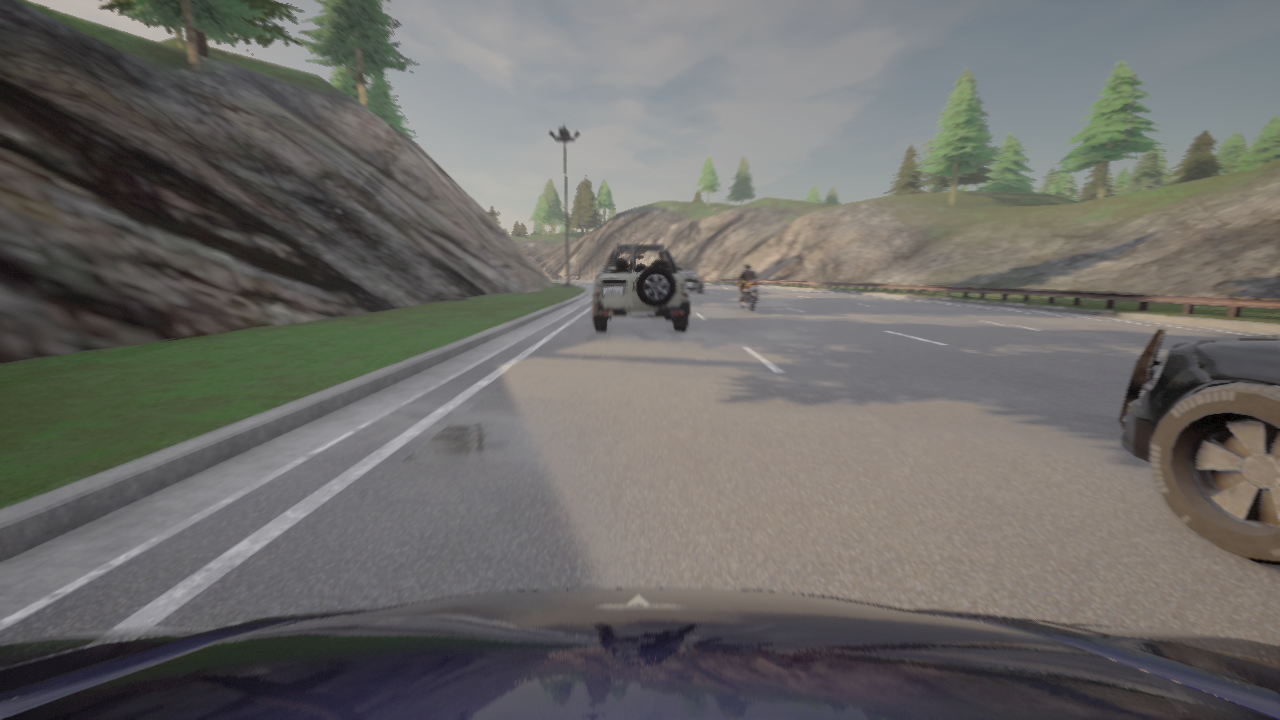cyclist: (0, 588, 1279, 719), (1118, 328, 1279, 565), (592, 244, 689, 331), (732, 276, 759, 311), (679, 269, 704, 292), (594, 271, 601, 285)
